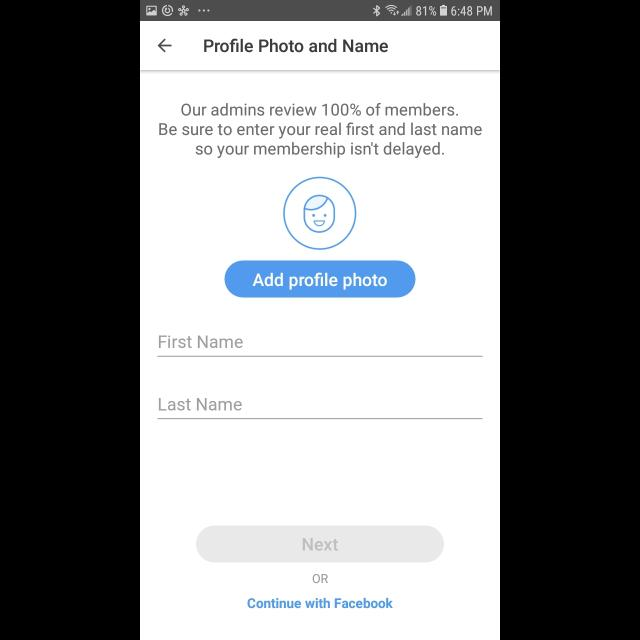icon: (158, 39, 172, 53)
image: (283, 177, 357, 251)
input: (158, 335, 482, 357), (158, 398, 482, 419)
text: (158, 103, 482, 159), (204, 39, 388, 53), (248, 598, 392, 608), (159, 336, 243, 348), (160, 398, 242, 410), (312, 573, 328, 583)
textbutton: (196, 526, 444, 562), (224, 260, 416, 298)
uppertaskbar: (140, 1, 500, 22)
